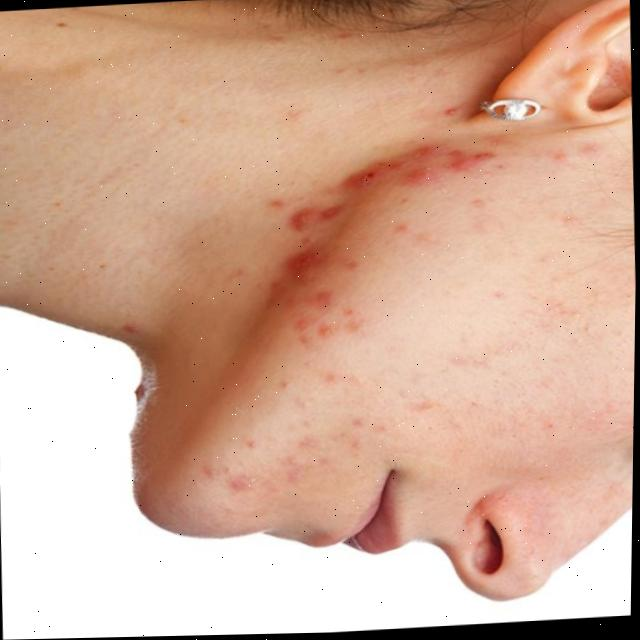Acne: (228, 112, 488, 406)
